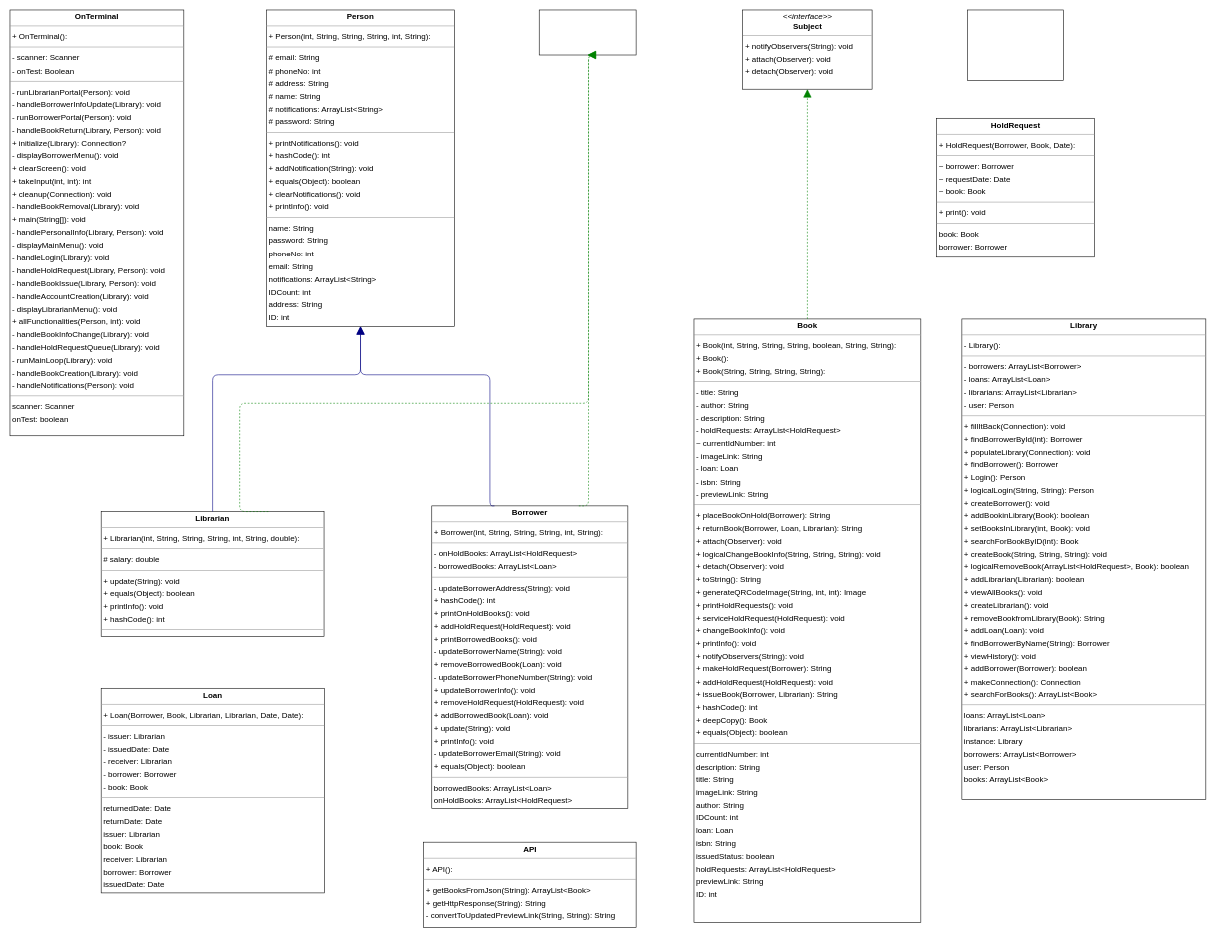
This 1216x938 diagram has some shape labels left out. Each missing label, with the centre of its shape:
<<interface>> Observer + update(String): void: [587,32]
Main + Main(): + main(String[]): void + start(Stage): void: [1015,45]
